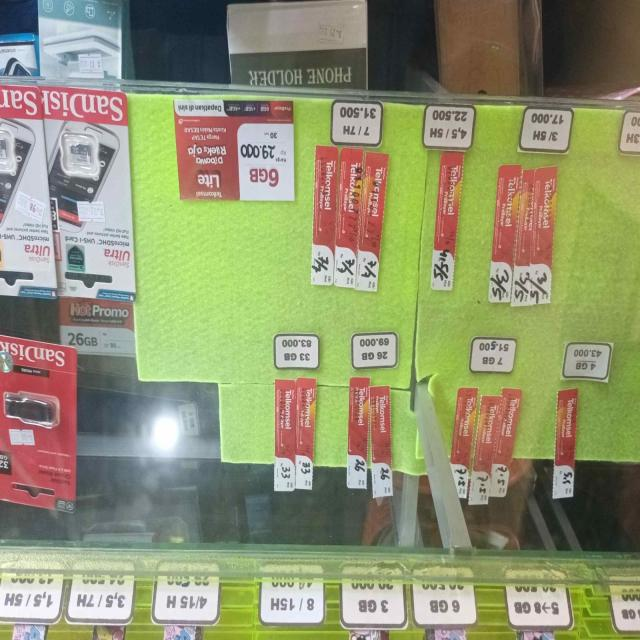Telkomsel: (170, 95, 294, 200), (312, 144, 389, 300), (486, 158, 560, 313), (444, 374, 520, 508), (348, 376, 398, 502), (272, 373, 321, 497), (435, 148, 463, 292), (550, 385, 578, 501)
